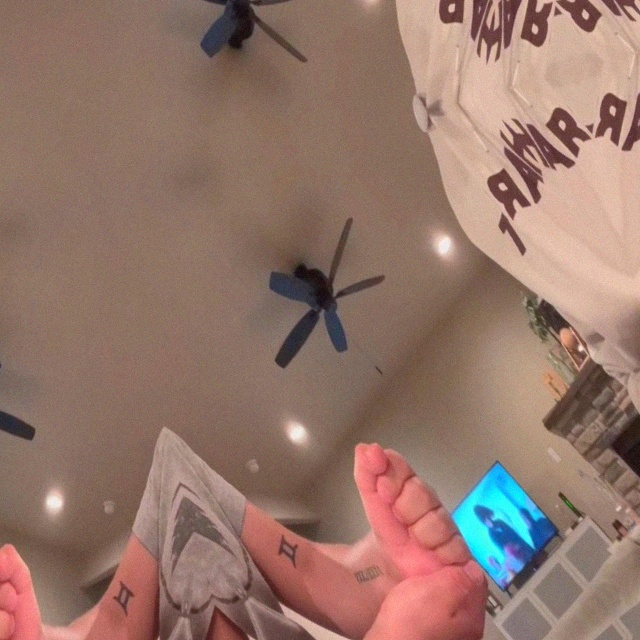Rock: (0, 516, 93, 640)
